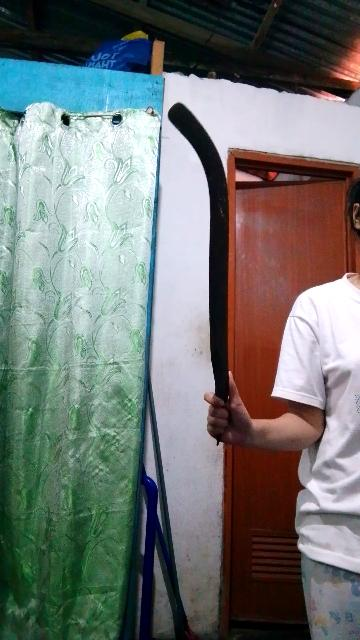long knife: (167, 92, 245, 454)
